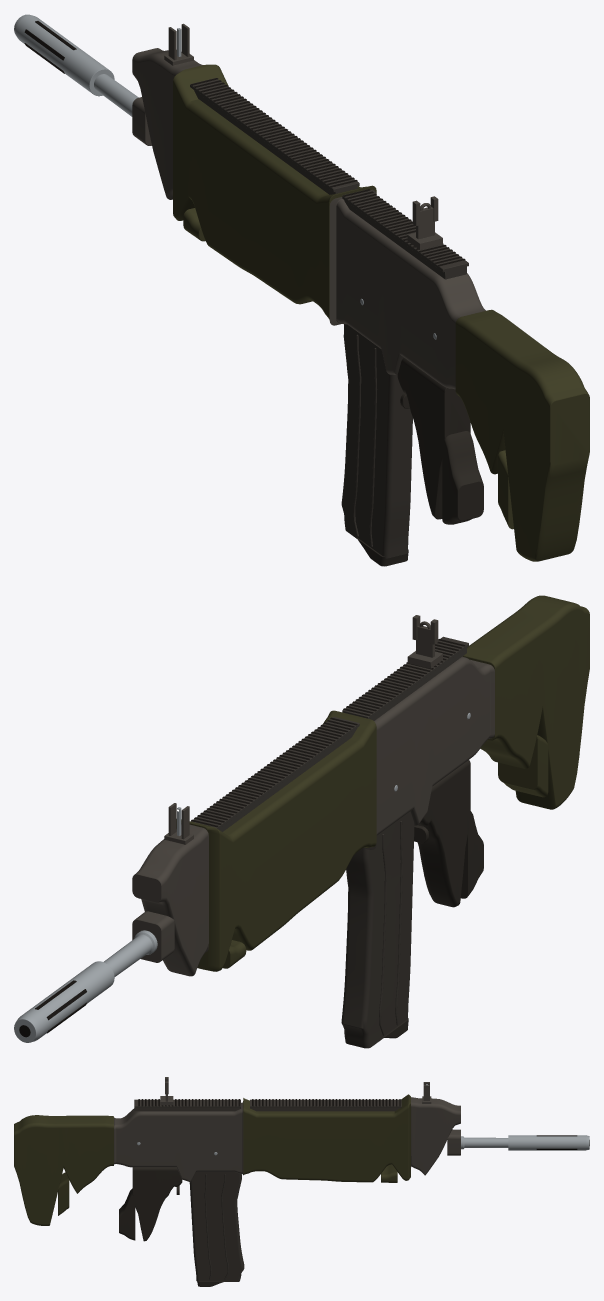
The model's file is ar-lmao.glb.
The picture shows the model from 3 angles, top to bottom: view 1: azimuth 30°, elevation 25°; view 2: azimuth 150°, elevation 25°; view 3: azimuth 270°, elevation 25°; orthographic projection. The views are drawn at different scales.
Parts seen in each view (by area): view 1: SW_Body, SW_Mag, SW_Hider, SW_IronRear, SW_IronFront; view 2: SW_Body, SW_Mag, SW_Hider, SW_IronRear, SW_IronFront; view 3: SW_Body, SW_Mag, SW_Hider.
Part boxes in pixels (x1,y1,x2,y2): SW_Body: (94, 48, 589, 561); SW_Mag: (341, 324, 412, 566); SW_Hider: (14, 14, 114, 96); SW_IronRear: (407, 196, 442, 249); SW_IronFront: (164, 23, 193, 65); SW_Body: (104, 595, 589, 976); SW_Mag: (341, 811, 414, 1048); SW_Hider: (14, 961, 114, 1042); SW_IronRear: (407, 615, 442, 668); SW_IronFront: (164, 803, 193, 844); SW_Body: (14, 1094, 508, 1241); SW_Mag: (189, 1172, 244, 1286); SW_Hider: (508, 1135, 589, 1150).
Bounding box in the file's own units: 0.045 × 0.3493 × 0.8962.
